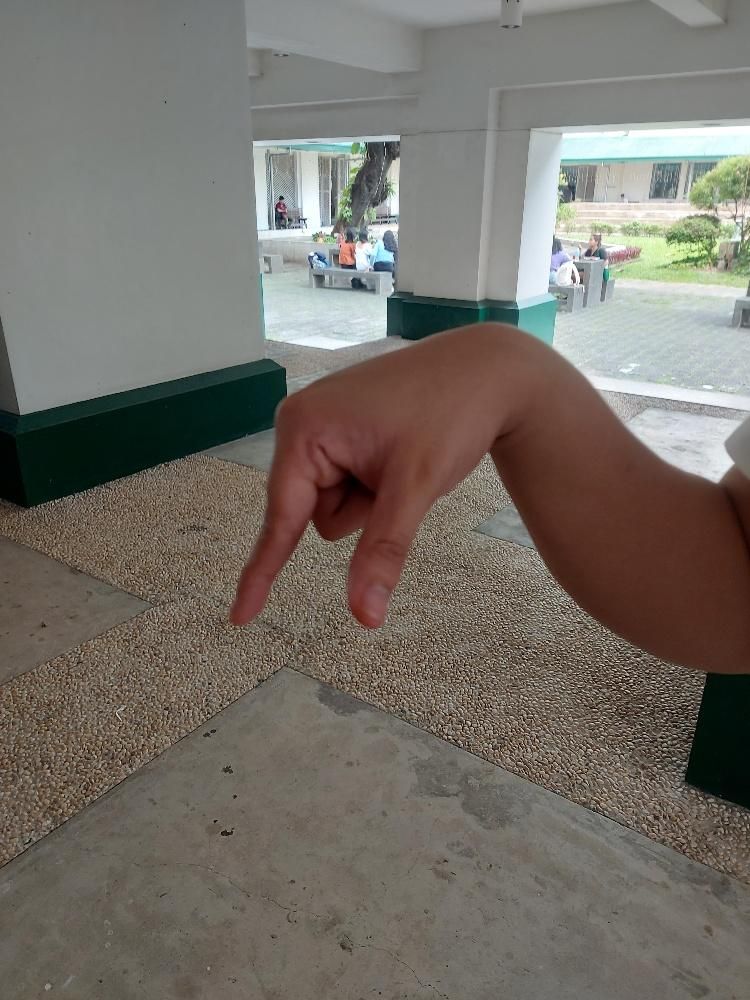q: (224, 334, 496, 632)
